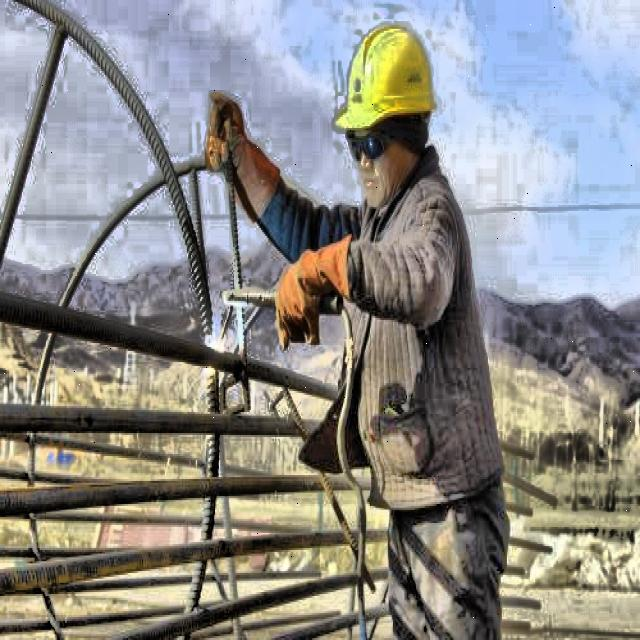helmet: (336, 4, 446, 213)
